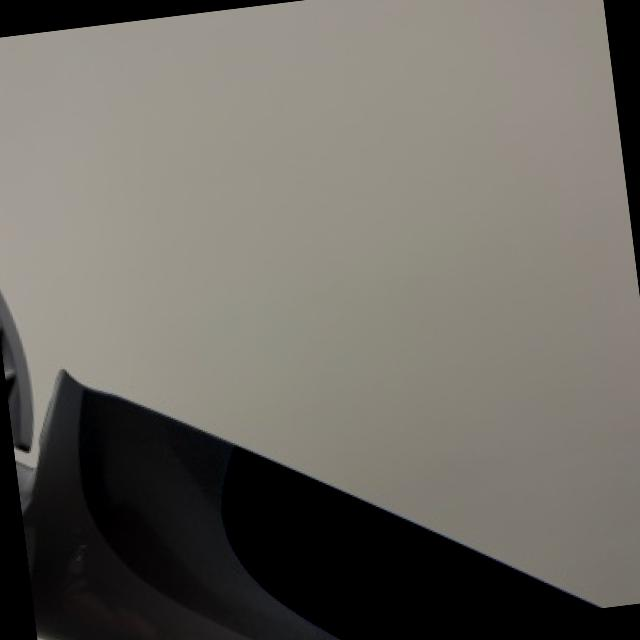healthy: (23, 369, 600, 640), (0, 289, 36, 447)
